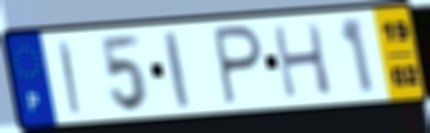1: (339, 15, 377, 98)
5: (95, 31, 153, 115)
H: (269, 20, 335, 101)
I: (159, 27, 193, 111), (55, 38, 83, 117)
P: (211, 23, 266, 108)
